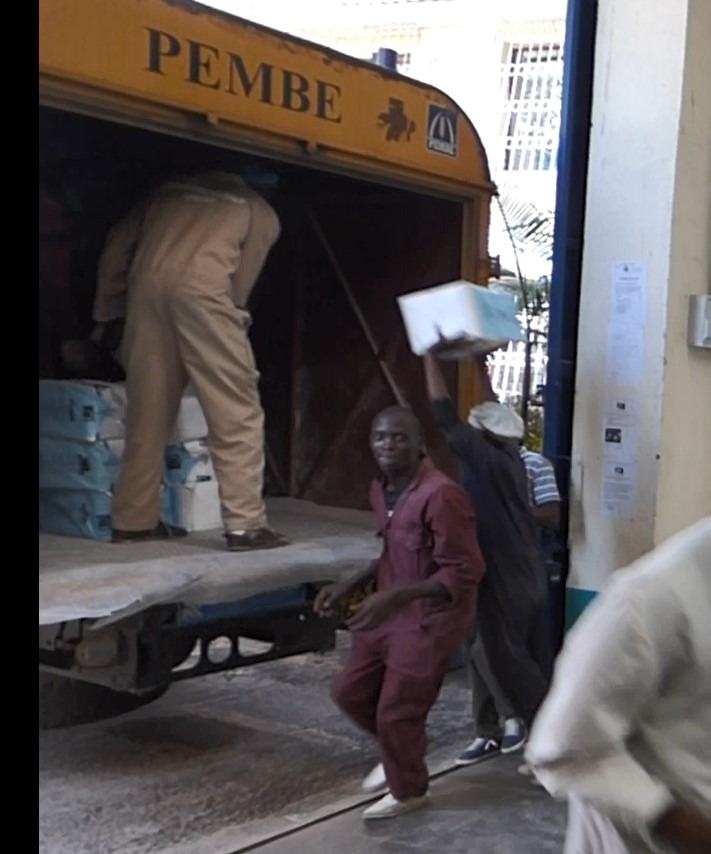wheat_flour_blue_label: (397, 286, 526, 355)
